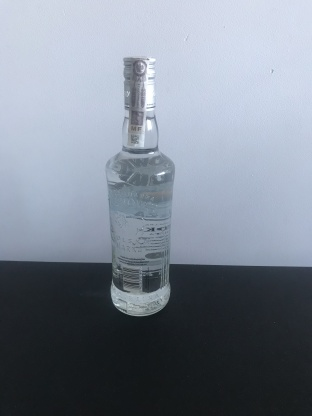nakretka: (120, 53, 158, 113)
